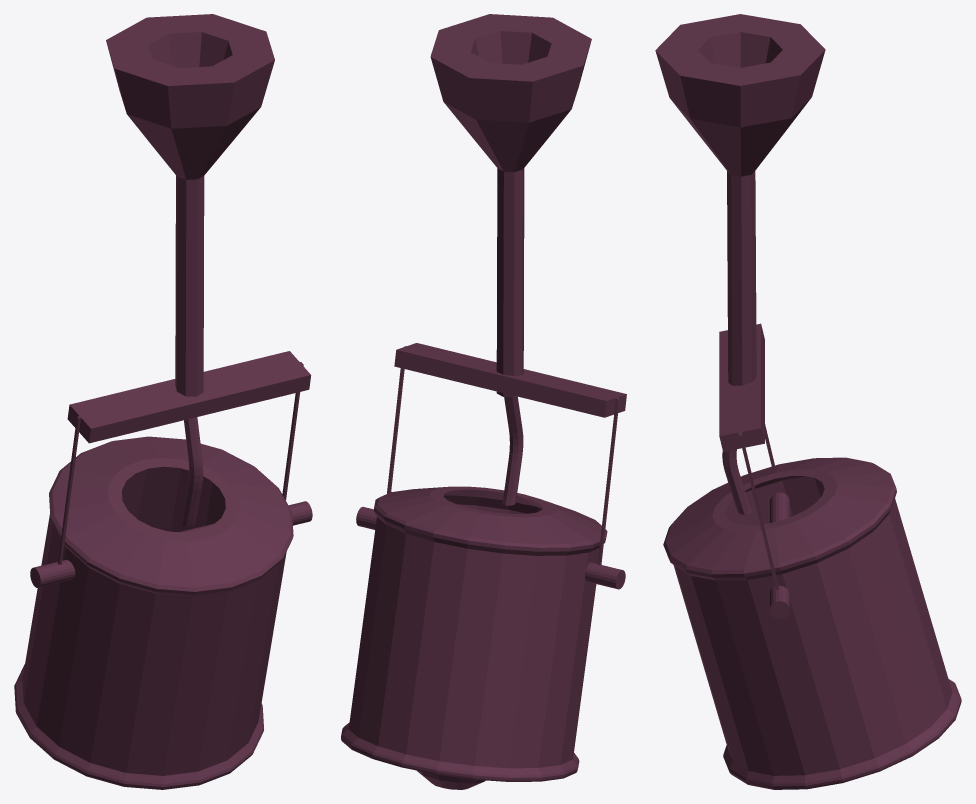
The model's file is Light.fbx.
3 renders of one model, left to right at view 1: azimuth 30°, elevation 25°; view 2: azimuth 150°, elevation 25°; view 3: azimuth 270°, elevation 25°, orthographic. The views are drawn at different scales.
Visible parts, largest first — view 1: pCylinder3; view 2: pCylinder3; view 3: pCylinder3.
Part boxes in pixels (x1,y1,x2,y2): pCylinder3: (14,14,312,789); pCylinder3: (341,14,626,789); pCylinder3: (655,14,961,789).
Bounding box in the file's own units: 12.78 × 32.94 × 12.82.
Materials: 1 (1 with a texture image).
